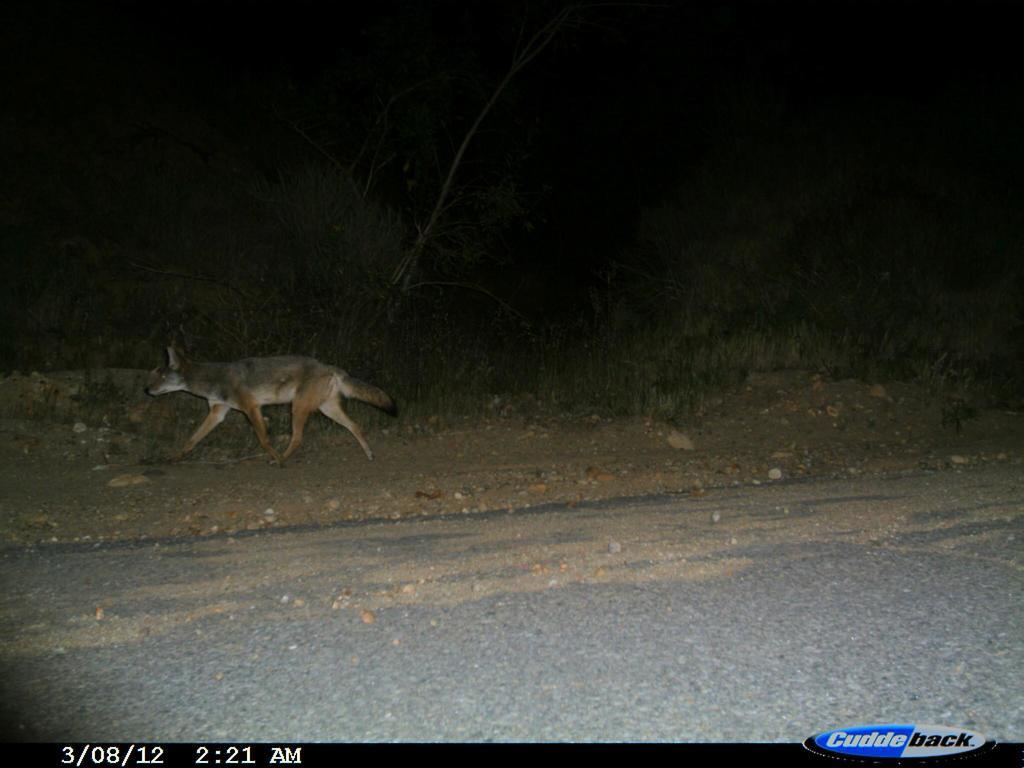coyote: (140, 337, 404, 478)
